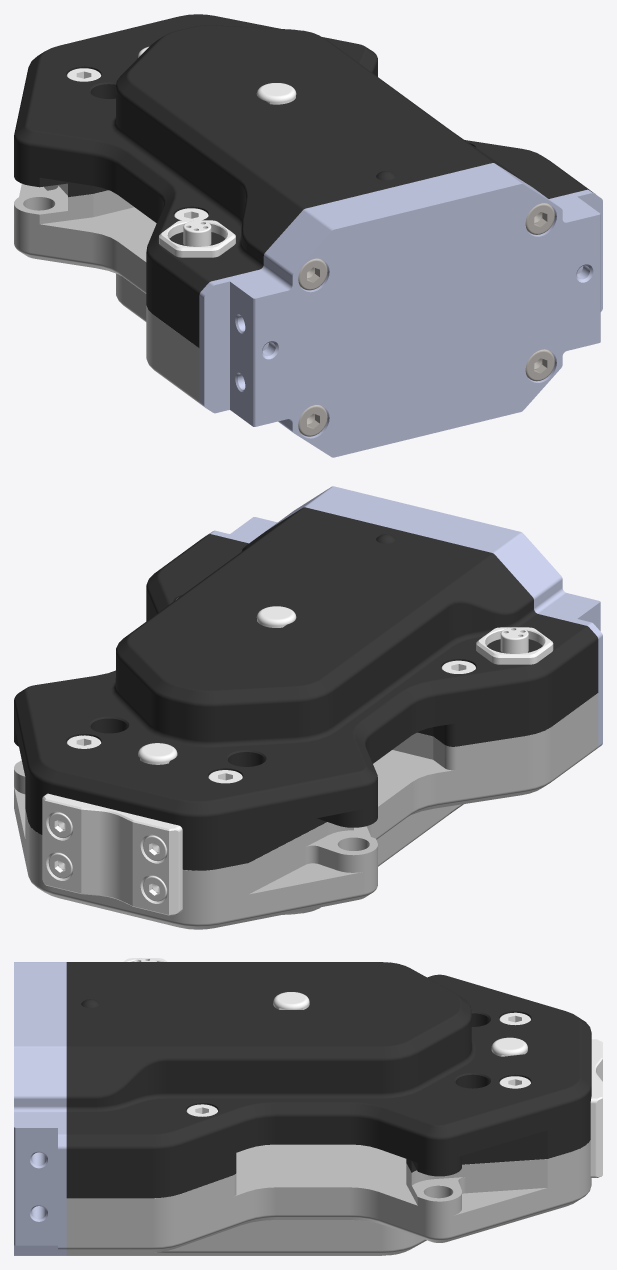
Rendered from AG-160-95-body.gltf.
3 views of the same model, one above another, from view 1: azimuth 30°, elevation 25°; view 2: azimuth 150°, elevation 25°; view 3: azimuth 270°, elevation 25° (orthographic). The views are drawn at different scales.
Parts seen in each view (by area): view 1: A.STEP022; view 2: A.STEP022; view 3: A.STEP022.
Boxes of the visible parts, x1,y1,x2,y2 form: A.STEP022: (14,14,602,457); A.STEP022: (14,486,602,929); A.STEP022: (14,958,602,1255).
Bounding box in the file's own units: 0.093 × 0.0523 × 0.1295.
